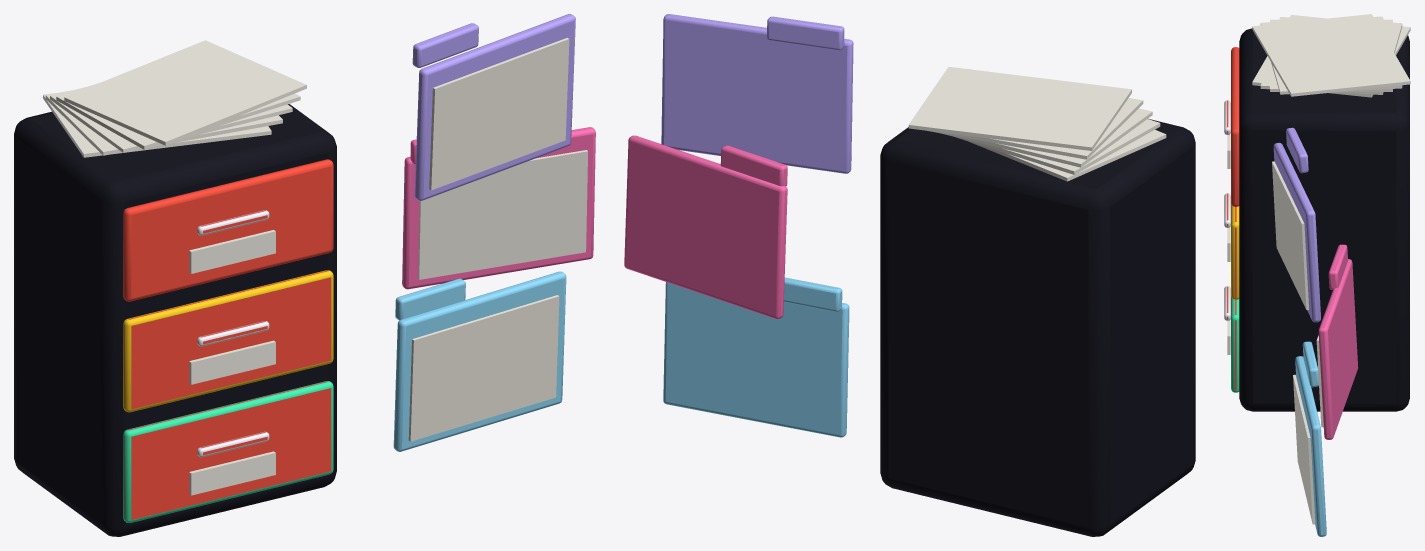
Rendered from archive.glb.
3 views of the same model, side by side, from view 1: azimuth 30°, elevation 25°; view 2: azimuth 150°, elevation 25°; view 3: azimuth 270°, elevation 25° (orthographic). The views are drawn at different scales.
Visible parts, largest first — view 1: cabinet, drawers, bob_folder2, bob_folder0, bob_folder1, papers; view 2: cabinet, bob_folder0, bob_folder2, bob_folder1, papers; view 3: cabinet, papers, bob_folder0, bob_folder1, drawers, bob_folder2.
Boxes of the visible parts, left/top/right/bottom form: cabinet: left=14, top=104, right=336, bottom=536; drawers: left=123, top=159, right=333, bottom=522; bob_folder2: left=393, top=271, right=566, bottom=451; bob_folder0: left=412, top=14, right=575, bottom=200; bob_folder1: left=402, top=127, right=595, bottom=289; papers: left=43, top=40, right=306, bottom=157; cabinet: left=880, top=119, right=1195, bottom=536; bob_folder0: left=661, top=14, right=853, bottom=173; bob_folder2: left=663, top=277, right=849, bottom=437; bob_folder1: left=624, top=135, right=787, bottom=318; papers: left=908, top=67, right=1166, bottom=181; cabinet: left=1239, top=28, right=1409, bottom=411; papers: left=1252, top=14, right=1410, bottom=97; bob_folder0: left=1272, top=127, right=1320, bottom=322; bob_folder1: left=1316, top=244, right=1358, bottom=439; drawers: left=1224, top=47, right=1239, bottom=392; bob_folder2: left=1293, top=341, right=1326, bottom=536.
Size of the model in its own units: 7.6 by 5.55 by 2.73.
